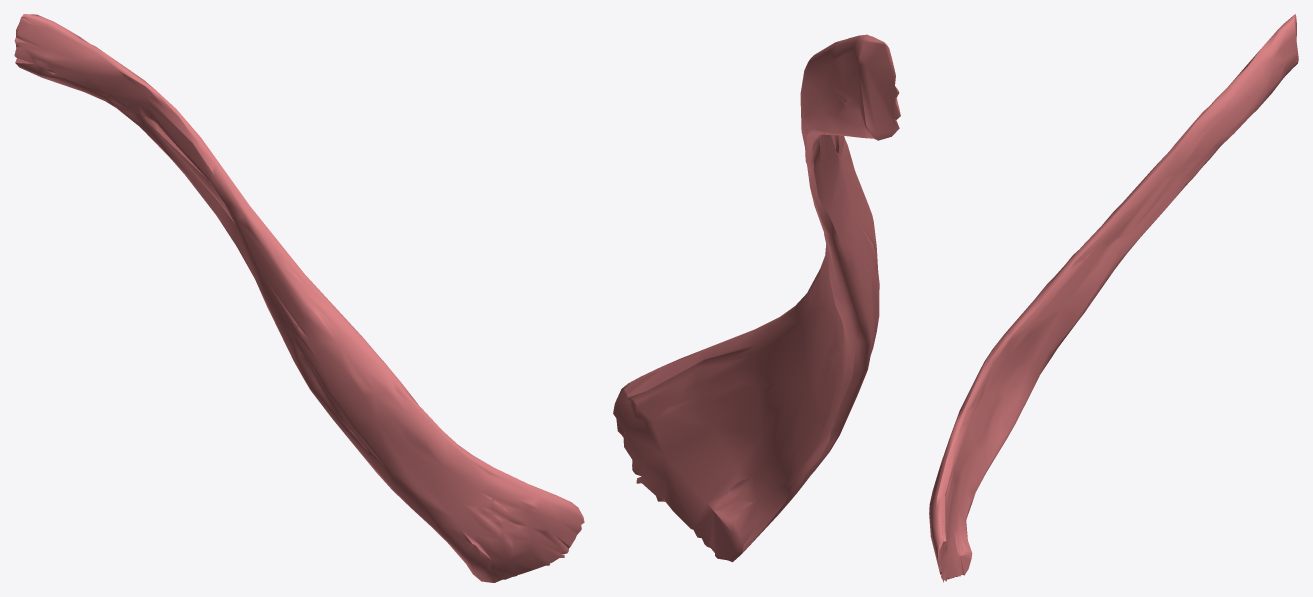
3 renders of one model, left to right at view 1: azimuth 30°, elevation 25°; view 2: azimuth 150°, elevation 25°; view 3: azimuth 270°, elevation 25°, orthographic. The views are drawn at different scales.
Parts seen in each view (by area): view 1: FJ1446; view 2: FJ1446; view 3: FJ1446.
Boxes of the visible parts, box(x1,y1,x2,y2) form: FJ1446: box(14, 14, 584, 582); FJ1446: box(613, 34, 900, 562); FJ1446: box(929, 14, 1298, 582).
Size of the model in its own units: 0.1322 by 0.1722 by 0.1312.
